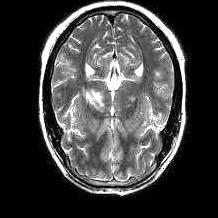Normal_Brain: (1, 1, 197, 218)
